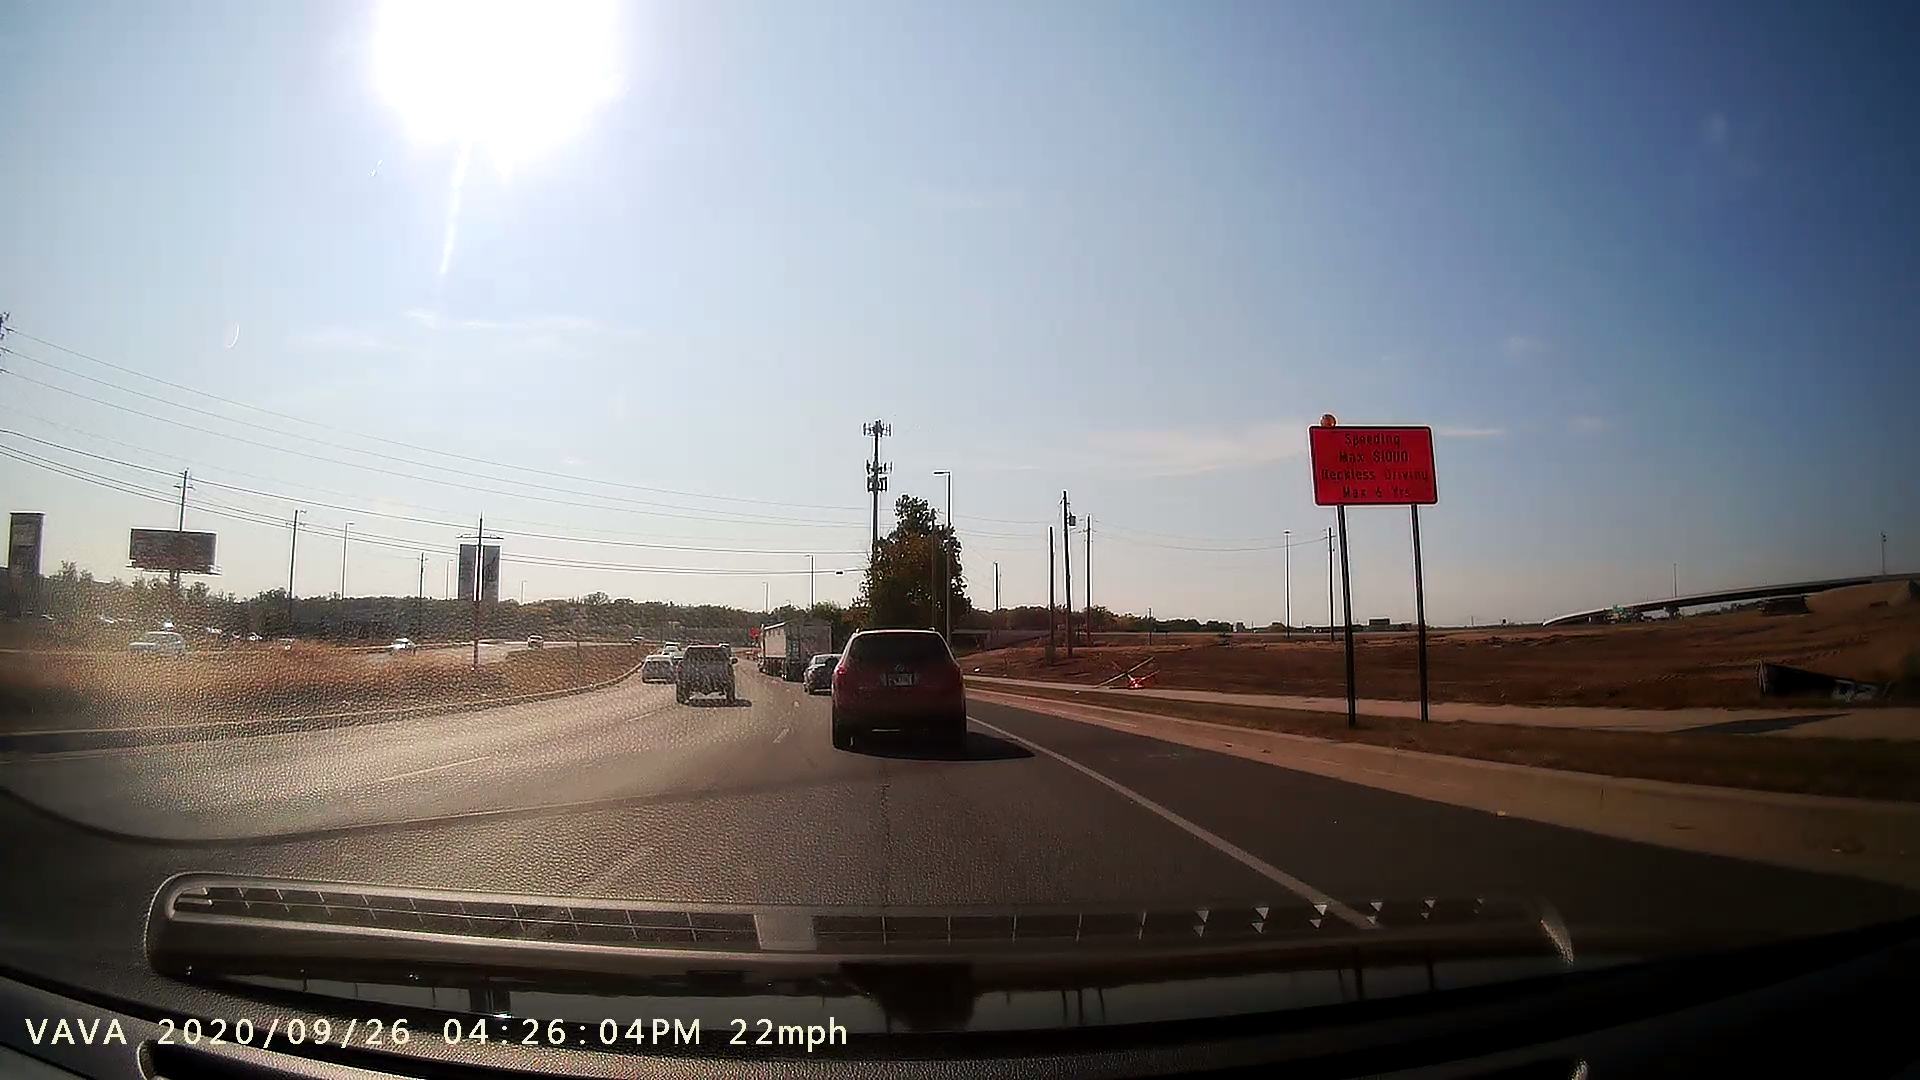temperary_sign: (1298, 402, 1462, 736)
